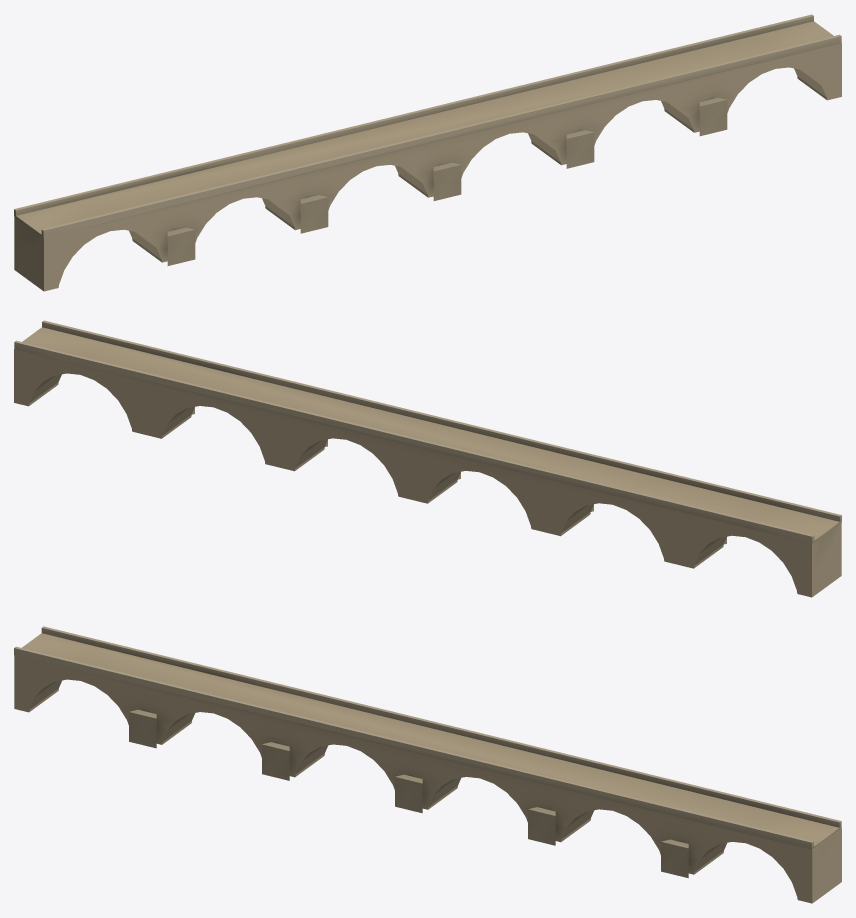
File: pons-aemilius.glb
The picture shows the model from 3 angles, top to bottom: view 1: azimuth 30°, elevation 25°; view 2: azimuth 150°, elevation 25°; view 3: azimuth 330°, elevation 25°; orthographic projection.
Parts seen in each view (by area): view 1: p1_deck, p0_arches; view 2: p1_deck, p0_arches; view 3: p1_deck, p0_arches.
Boxes of the visible parts, <box> form: p1_deck: <box>14,14,841,237</box>; p0_arches: <box>14,43,841,291</box>; p1_deck: <box>14,320,841,543</box>; p0_arches: <box>14,349,841,597</box>; p1_deck: <box>14,626,841,849</box>; p0_arches: <box>14,655,841,903</box>.
Size of the model in its own units: 140 by 10.25 by 10.4.
